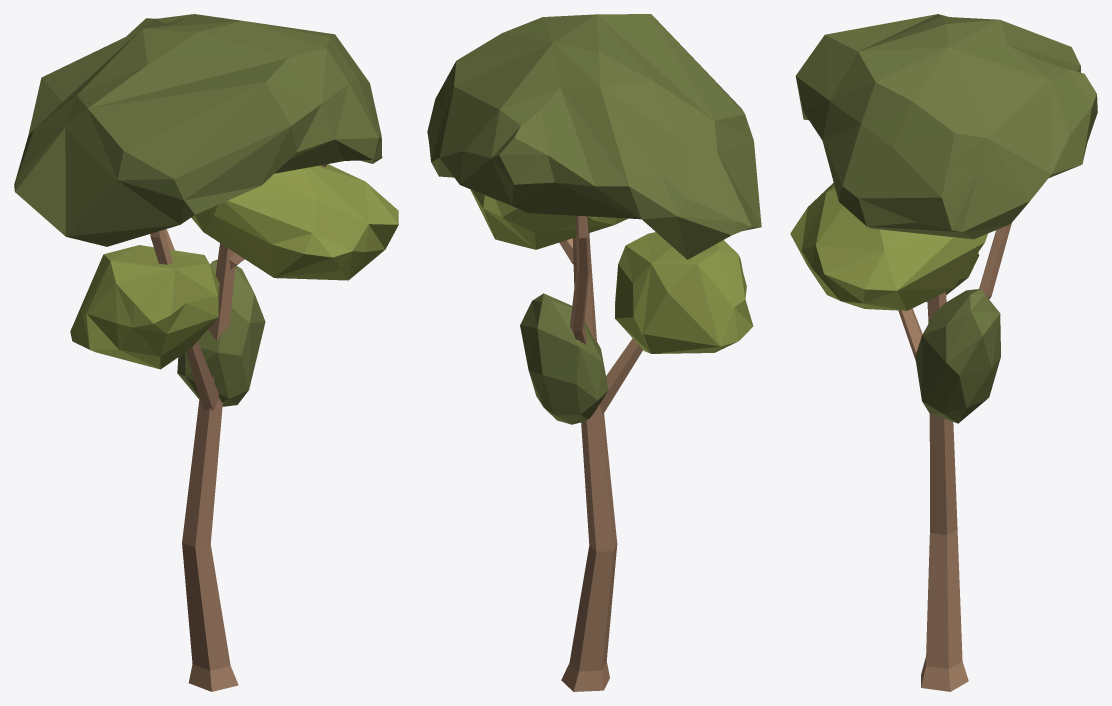
Rendered from LowPoly Tree_005.fbx.
3 views of the same model, side by side, from view 1: azimuth 30°, elevation 25°; view 2: azimuth 150°, elevation 25°; view 3: azimuth 270°, elevation 25° (orthographic). The views are drawn at different scales.
Visible parts, largest first — view 1: LowPolyTree001; view 2: LowPolyTree001; view 3: LowPolyTree001.
Boxes of the visible parts, box(x1,y1,x2,y2) form: LowPolyTree001: box(14, 14, 398, 691); LowPolyTree001: box(427, 14, 761, 691); LowPolyTree001: box(790, 14, 1097, 691).
Size of the model in its own units: 98.36 by 178 by 76.53.
